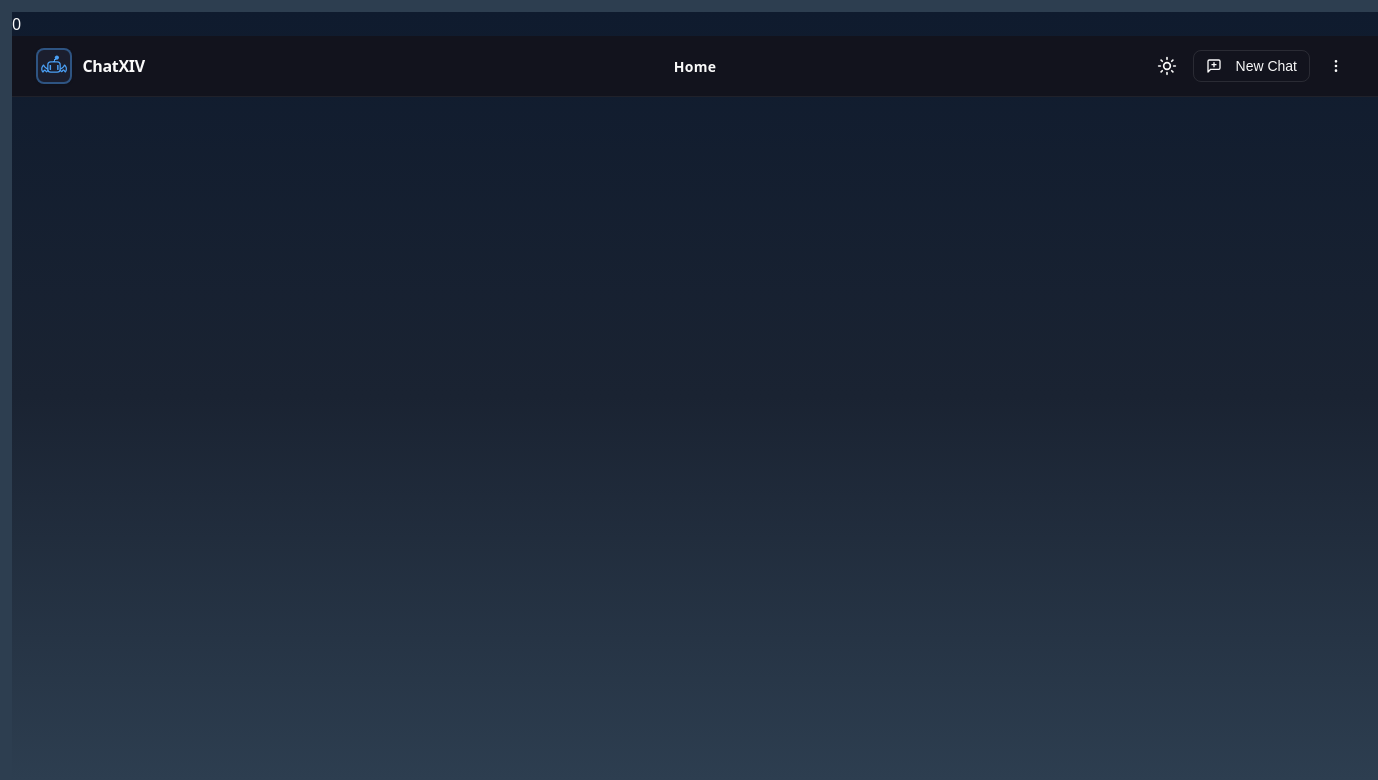
Scenario: Header › starts a new chat when the New Chat button is clicked (no link navigation)
Expected: the text with test id "session-generation" reads "0", [12,13,21,35]
Click the button "New Chat". click: (1251, 66)
box: [1192,50,1310,82]
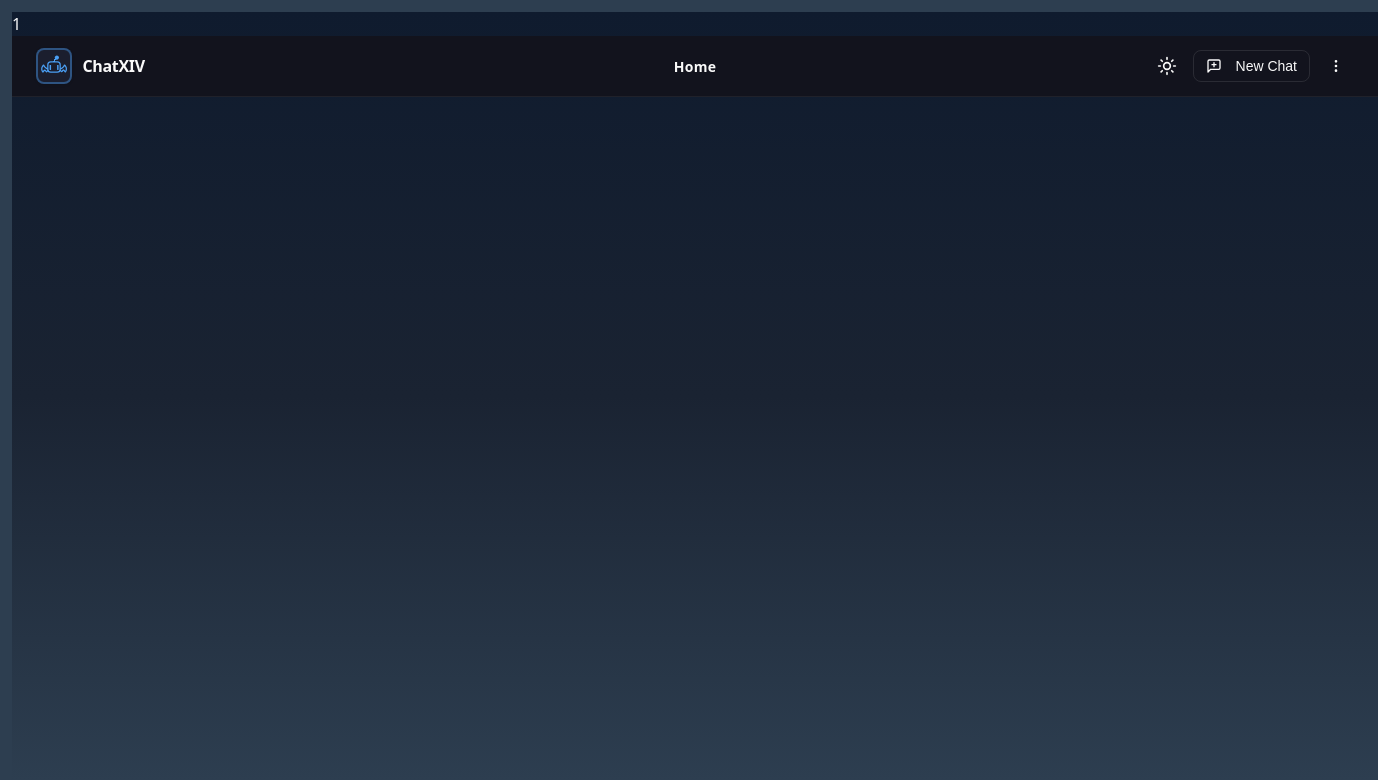
Now the text with test id "session-generation" reads "1", box [12,13,21,35]
